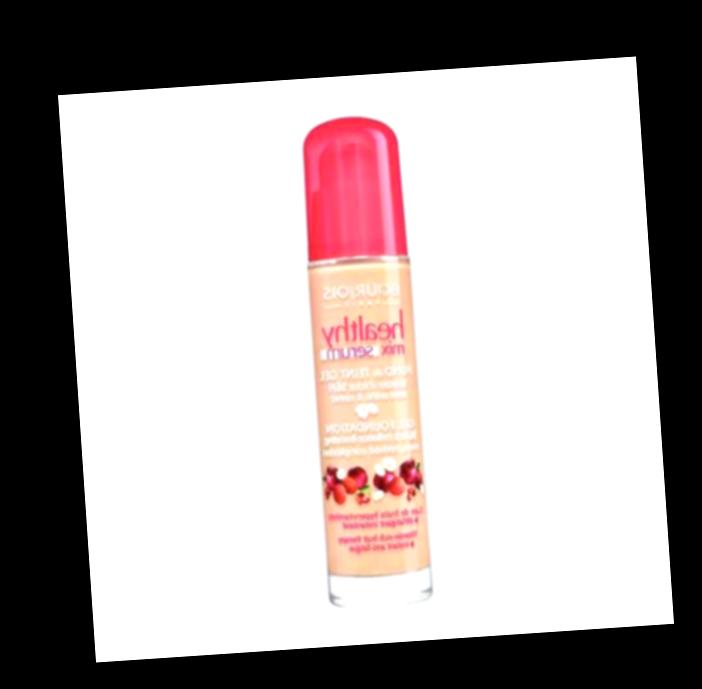cosmetic: (296, 113, 436, 605)
